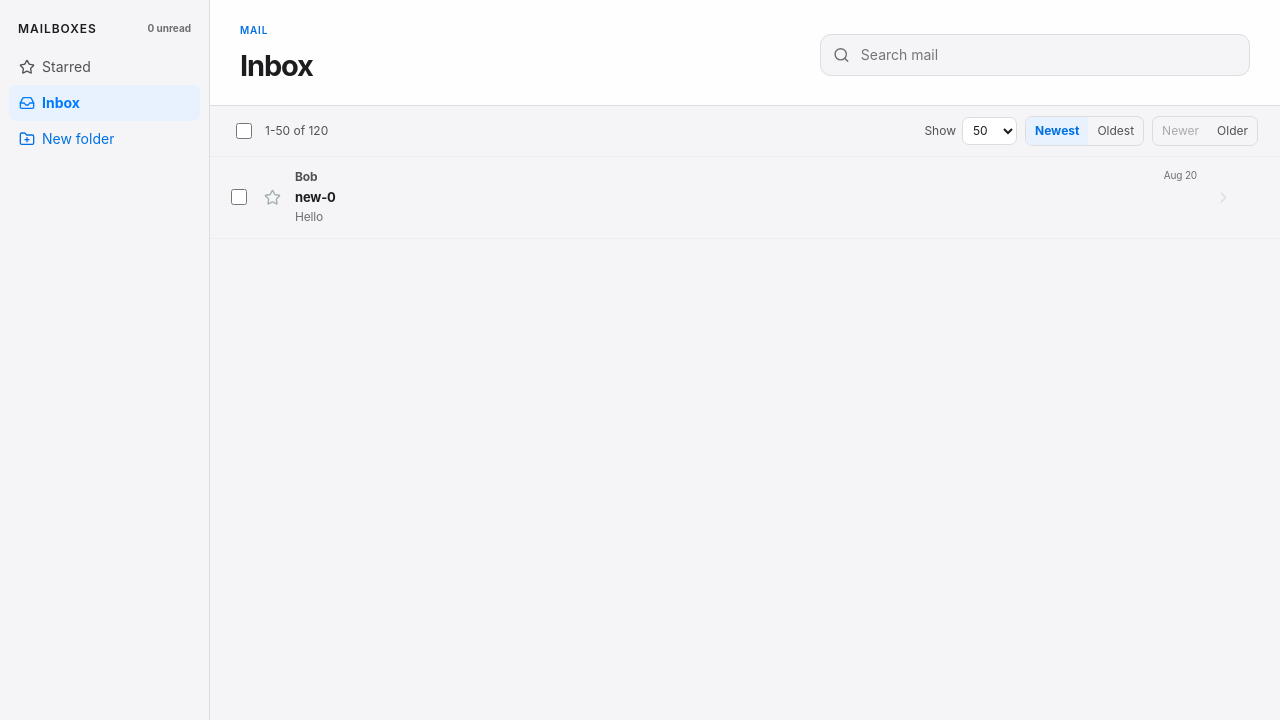
Test: mail list › moves between newer and older pages and can list the oldest mail first
Check: the text "new-0" is shown, box x1=295 y1=189 x2=336 y2=205
Check: the text "1-50 of 120" is shown, box x1=265 y1=122 x2=328 y2=139
Click the button "Older".
click(1232, 130)  # box x1=1208 y1=116 x2=1257 y2=144
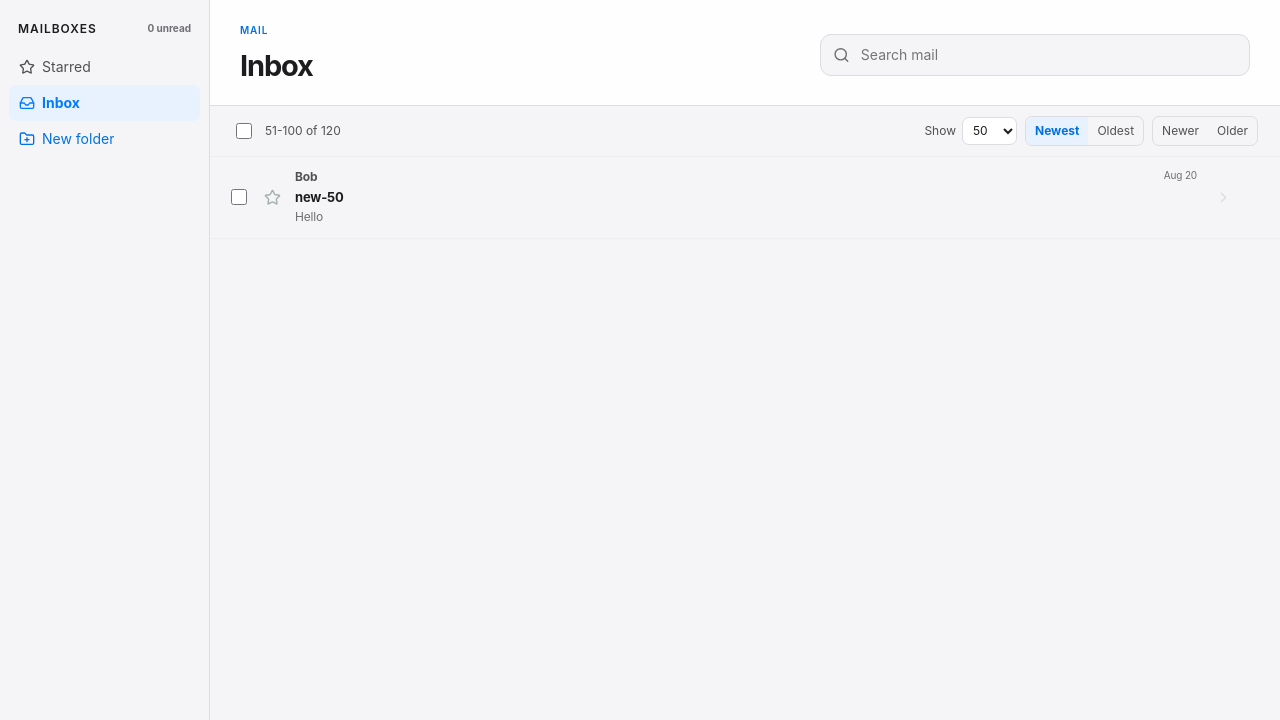
Check: the text "new-50" is shown, box x1=295 y1=189 x2=344 y2=205
Check: the text "51-100 of 120" is shown, box x1=265 y1=122 x2=341 y2=139
Click the button "Newer".
click(1181, 130)  # box x1=1153 y1=116 x2=1208 y2=144
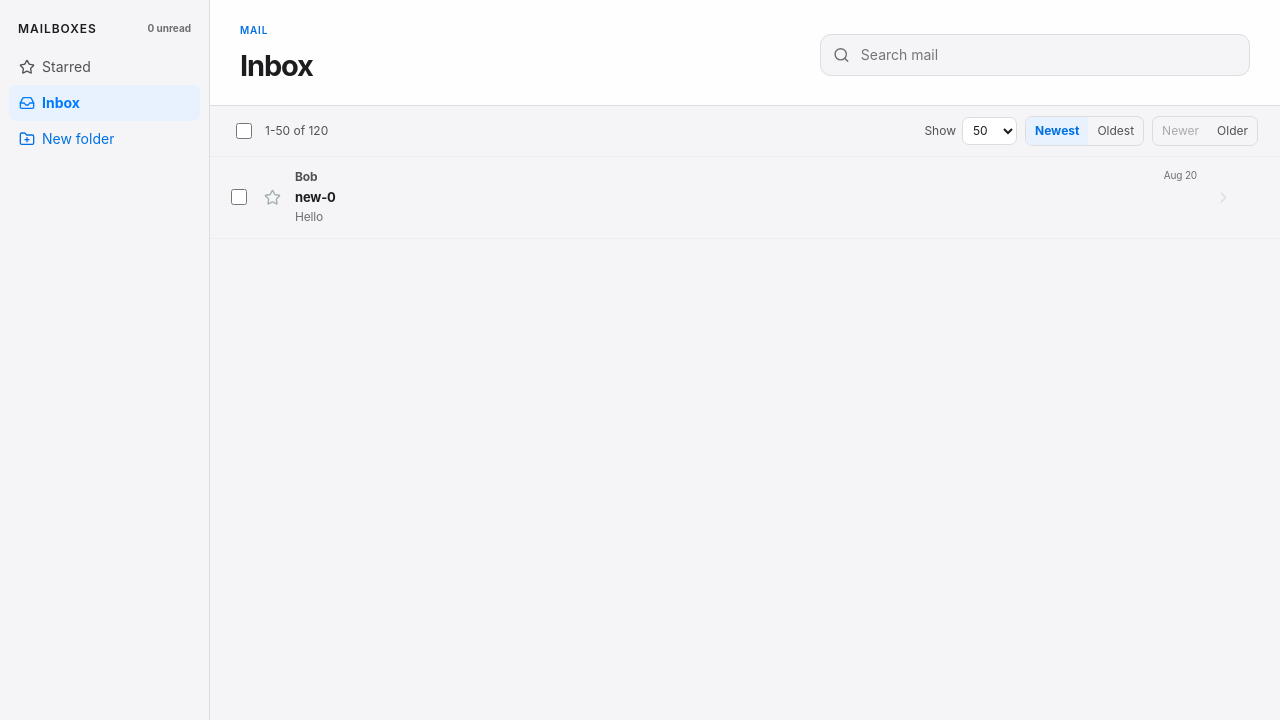
Check: the text "new-0" is shown, box x1=295 y1=189 x2=336 y2=205
Click the button "Oldest".
click(1116, 130)  # box x1=1088 y1=116 x2=1143 y2=144
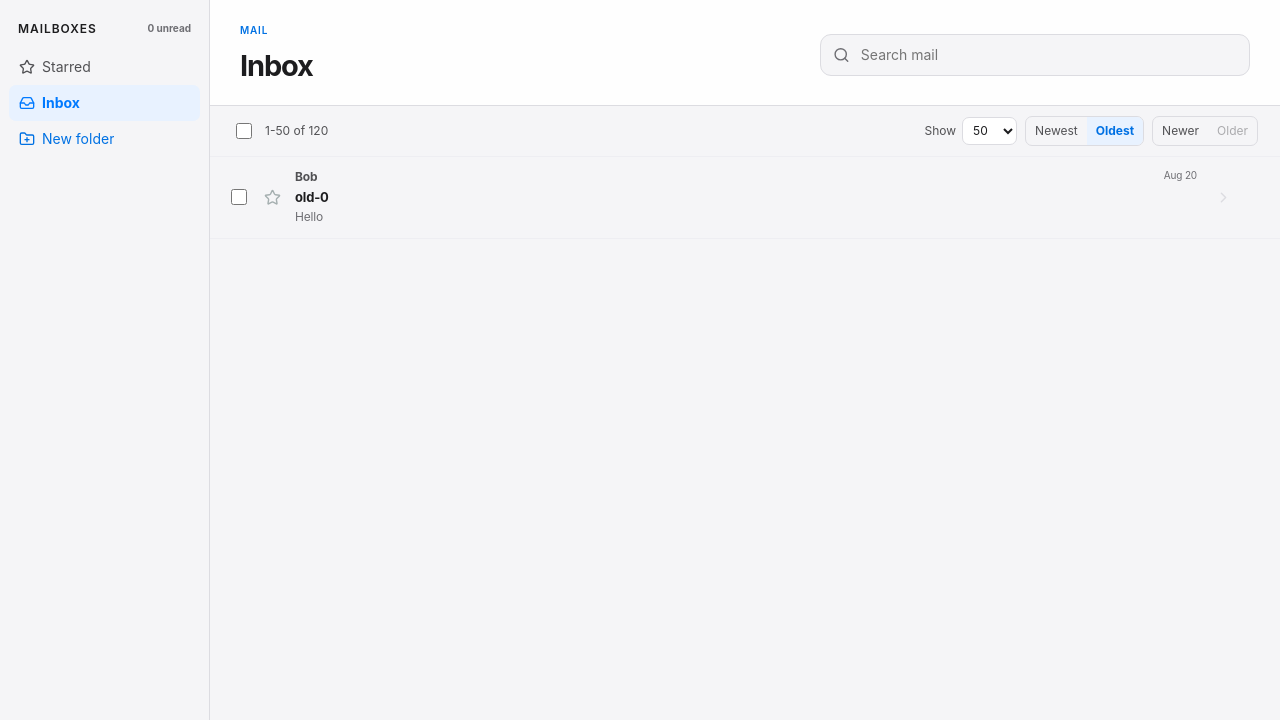
Check: the text "old-0" is shown, box x1=295 y1=189 x2=329 y2=205
Select "100" in the dropdown named "Emails per page" at (990, 130), box x1=962 y1=116 x2=1017 y2=144
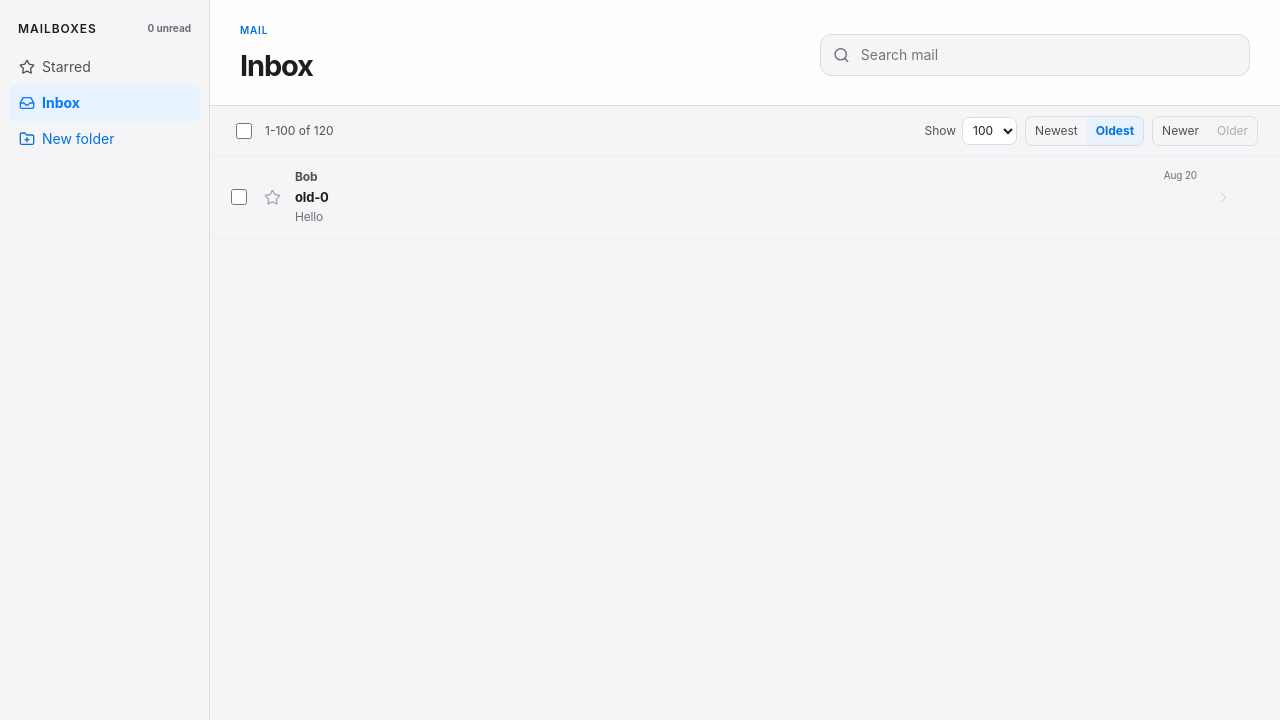
Check: the text "1-100 of 120" is shown, box x1=265 y1=122 x2=334 y2=139
